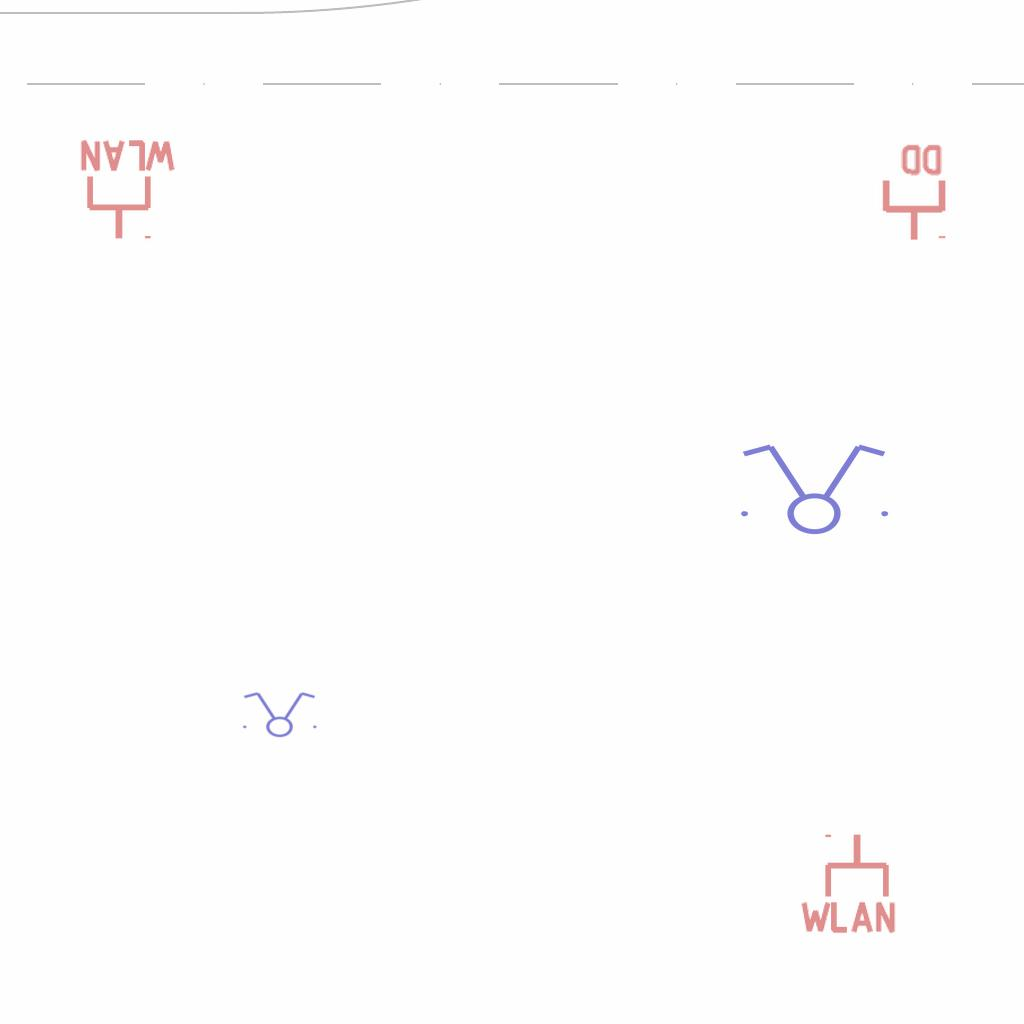Datenanschluss_zweifach: (878, 140, 947, 243)
Serienschalter: (729, 440, 897, 536), (237, 690, 321, 738)
WLAN: (76, 138, 180, 243), (796, 830, 900, 935)
